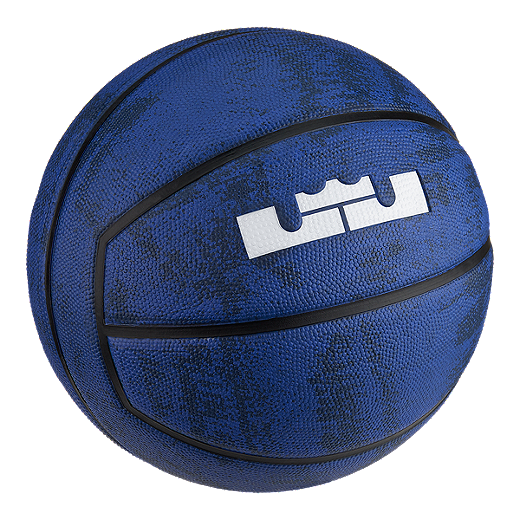blue ball: (25, 27, 496, 493)
